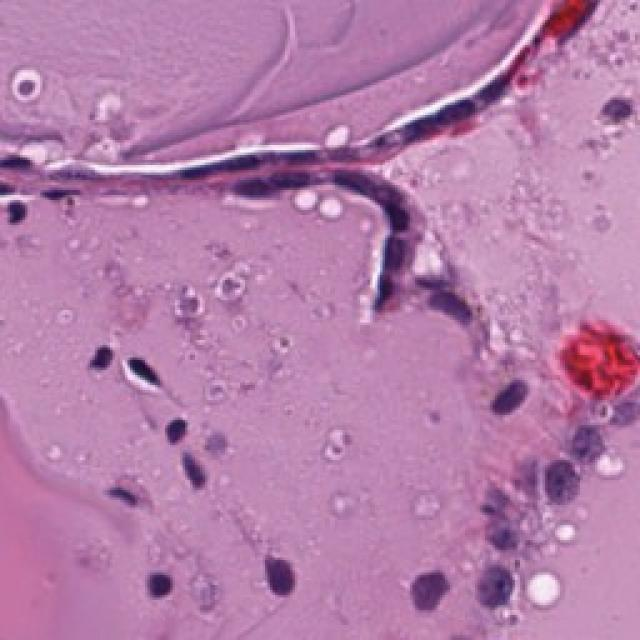normal: (457, 547, 526, 624), (424, 76, 493, 152), (326, 145, 388, 224), (268, 143, 333, 212), (368, 185, 439, 246), (535, 441, 592, 509), (567, 411, 620, 476), (372, 232, 434, 284)
